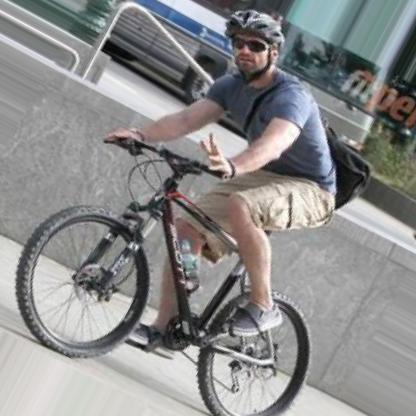with helmet: (226, 9, 283, 81)
